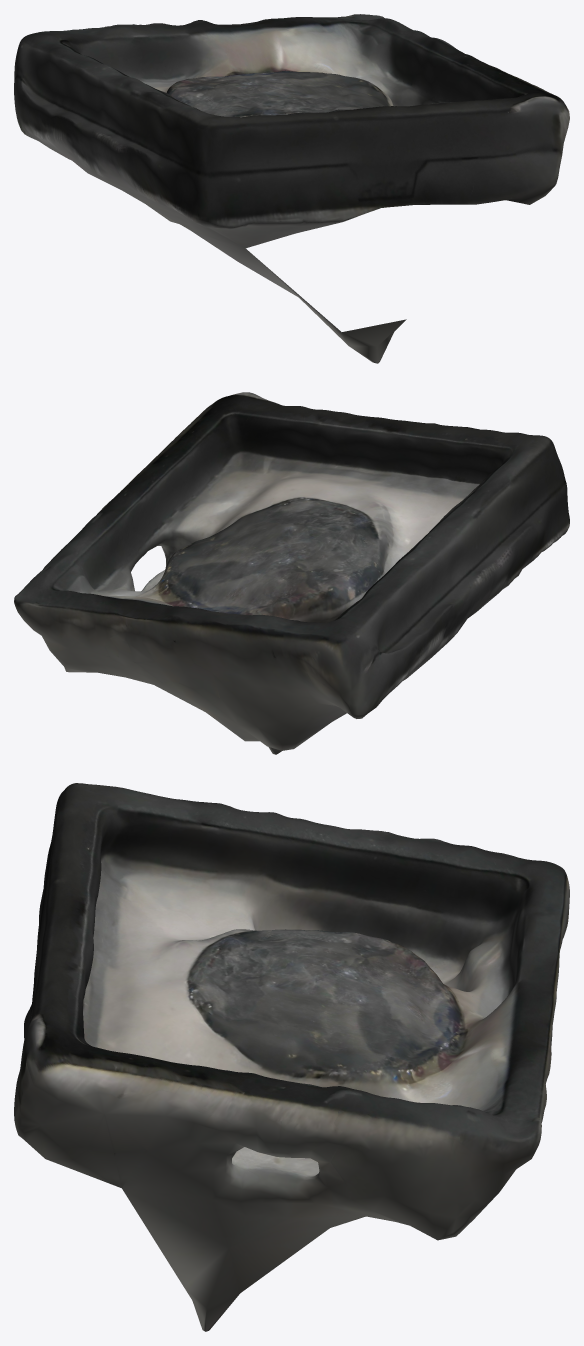
The picture shows the model from 3 angles, top to bottom: view 1: azimuth 30°, elevation 25°; view 2: azimuth 150°, elevation 25°; view 3: azimuth 270°, elevation 25°; orthographic projection. The views are drawn at different scales.
Size of the model in its own units: 0.7211 by 0.5978 by 0.7272.
1 material, 1 textured.
